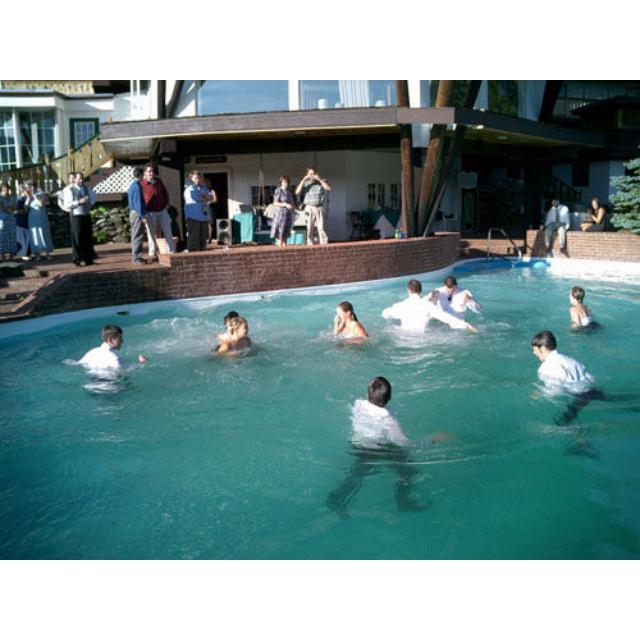human: (337, 372, 433, 516), (529, 327, 614, 453), (72, 325, 147, 406), (385, 282, 474, 331), (428, 276, 480, 320), (324, 303, 370, 342), (566, 287, 601, 334), (217, 311, 251, 355)
